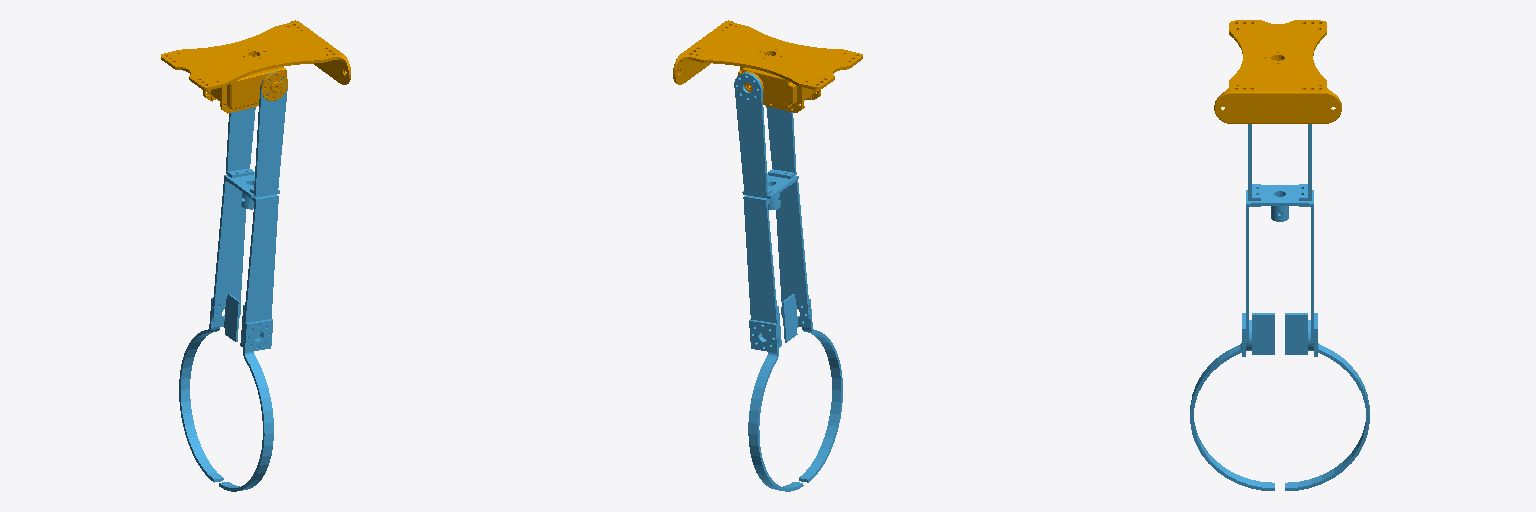
robot.urdf — robot_arm:
<?xml version="1.0" ?>
<robot name="robot_arm">
  <joint name="joint1" type="revolute">
    <parent link="robot_arm__base"/>
    <child link="robot_arm__arm"/>
    <origin rpy="0 0 0" xyz="0.007   0.0001 -0.0211"/>
    <axis xyz="0 1 0"/>
    <dynamics damping="0.01" friction="0.0" />
    <limit effort="300.0" lower="0.4" upper="2.9" velocity="50.0"/>
    <physics>
      <ode>
        <limit>
          <cfm>0</cfm>
          <erp>0.2</erp>
        </limit>
        <suspension>
          <cfm>0</cfm>
          <erp>0.2</erp>
        </suspension>
      </ode>
    </physics>
  </joint>
  <link name="robot_arm__base">
    <inertial>
      <mass value="0.142"/>
      <origin rpy="0 0 0" xyz="-1.020e-03 -4.000e-05 -1.439e-02"/>
      <inertia ixx="0.000065677" ixy="-0.000000330" ixz="-0.000005073" iyy="0.000156934" iyz="0.000000112" izz="0.000179185"/>
    </inertial>
    <collision name="robot_arm__base_collision">
      <origin rpy="0 0 0" xyz="0    0   -0.02"/>
      <geometry>
        <box size="0.15 0.1 0.05"/>
      </geometry>
    </collision>
    <visual name="robot_arm__base_visual">
      <origin rpy="0 0 0" xyz="0 0 0"/>
      <geometry>
        <mesh filename="package://aerial_catcher/description/meshes/Arm1113_1.STL" scale="1 1 1"/>
      </geometry>
    </visual>
  </link>
  <link name="robot_arm__arm">
    <inertial>
      <mass value="0.069"/>
      <origin rpy="0 0 0" xyz="0.17389  0.00165 -0.00152"/>
      <inertia ixx="79.613e-06" ixy="0.00000000000" ixz="-0.000017458" iyy="0.000768697" iyz="0.00000000000" izz="0.000840273"/>
    </inertial>
    <collision name="robot_arm__arm_collision">
      <origin rpy="0 0 0" xyz="0.2 0  0"/>
      <geometry>
        <box size="0.4 0.1 0.03"/>
      </geometry>
    </collision>
    <visual name="robot_arm__arm_visual">
      <origin rpy="0 0 0" xyz="0 0 0"/>
      <geometry>
        <mesh filename="package://aerial_catcher/description/meshes/Arm1113_2.STL" scale="1 1 1"/>
      </geometry>
    </visual>
  </link>

  <link name="world"/>
  <joint name="toworld" type="fixed">
    <parent link="world"/>
    <child link="robot_arm__base"/>
    <origin rpy="0 0 0" xyz="0.007   0.0001 1.0"/>
  </joint>
  <!-- <transmission name="tran2">
        <type>transmission_interface/SimpleTransmission</type>
        <joint name="joint1">
            <hardwareInterface>hardware_interface/VelocityJointInterface</hardwareInterface>
        </joint>
        <actuator name="motor1">
            <hardwareInterface>hardware_interface/VelocityJointInterface</hardwareInterface>
            <mechanicalReduction>1</mechanicalReduction>
        </actuator>
    </transmission> -->
  <transmission name="tran2">
    <type>transmission_interface/SimpleTransmission</type>
    <joint name="joint1">
      <hardwareInterface>hardware_interface/EffortJointInterface</hardwareInterface>
    </joint>
    <actuator name="motor1">
      <hardwareInterface>hardware_interface/PositionJointInterface</hardwareInterface>
      <mechanicalReduction>1</mechanicalReduction>
    </actuator>
  </transmission>
  <!-- <transmission name="tran2">
        <type>transmission_interface/SimpleTransmission</type>
        <joint name="joint1">
            <hardwareInterface>hardware_interface/PositionJointInterface</hardwareInterface>
        </joint>
        <actuator name="motor1">
            <hardwareInterface>hardware_interface/PositionJointInterface</hardwareInterface>
            <mechanicalReduction>1</mechanicalReduction>
        </actuator>
    </transmission> -->

  <gazebo reference="robot_arm__arm">
    <sensor type="contact" name="my_contact">
      <update_rate>5</update_rate>
      <always_on>1</always_on>
      <contact>
        <collision>robot_arm__arm_collision</collision>
      </contact>
      <plugin name="my_plugin" filename="libcontact.so"/>
    </sensor>
  </gazebo>
  <gazebo reference="joint1">
    <provideFeedback>true</provideFeedback>
  </gazebo>
  <gazebo>
    <plugin name="gazebo_ros_control" filename="libgazebo_ros_control.so">
      <robotNamespace>/</robotNamespace>
      <robotSimType>gazebo_ros_control/DefaultRobotHWSim</robotSimType>
      <legacyModeNS>true</legacyModeNS>
    </plugin>
    <plugin name="ft_sensor" filename="libgazebo_ros_ft_sensor.so">
      <updateRate>50.0</updateRate>
      <topicName>/joint1/ft</topicName>
      <jointName>joint1</jointName>
    </plugin>
  </gazebo>
</robot>

--- What the picture shows (computed from the rendered views, not written in the file) ---
Views: 3 orthographic renders of the robot side by side, from view 1: azimuth 30°, elevation 25°; view 2: azimuth 150°, elevation 25°; view 3: azimuth 270°, elevation 25°.
Model robot_arm with 3 links and 2 joints (1 revolute, 1 fixed), rooted at world, posed joints at zero except 1 at the middle of their limits (joint1 = 1.65).
Links seen in each view (by area): view 1: robot_arm__arm, robot_arm__base; view 2: robot_arm__arm, robot_arm__base; view 3: robot_arm__base, robot_arm__arm.
Boxes of the visible links, x1,y1,x2,y2 form: robot_arm__arm: (179, 71, 287, 491); robot_arm__base: (161, 20, 350, 113); robot_arm__arm: (734, 72, 842, 491); robot_arm__base: (673, 20, 862, 112); robot_arm__base: (1214, 20, 1341, 123); robot_arm__arm: (1190, 124, 1369, 490).
Size in the robot's own frame: 0.147 by 0.1542 by 0.4245 metres.
2 mesh visuals loaded from 2 distinct referenced files (2 binary STL).
